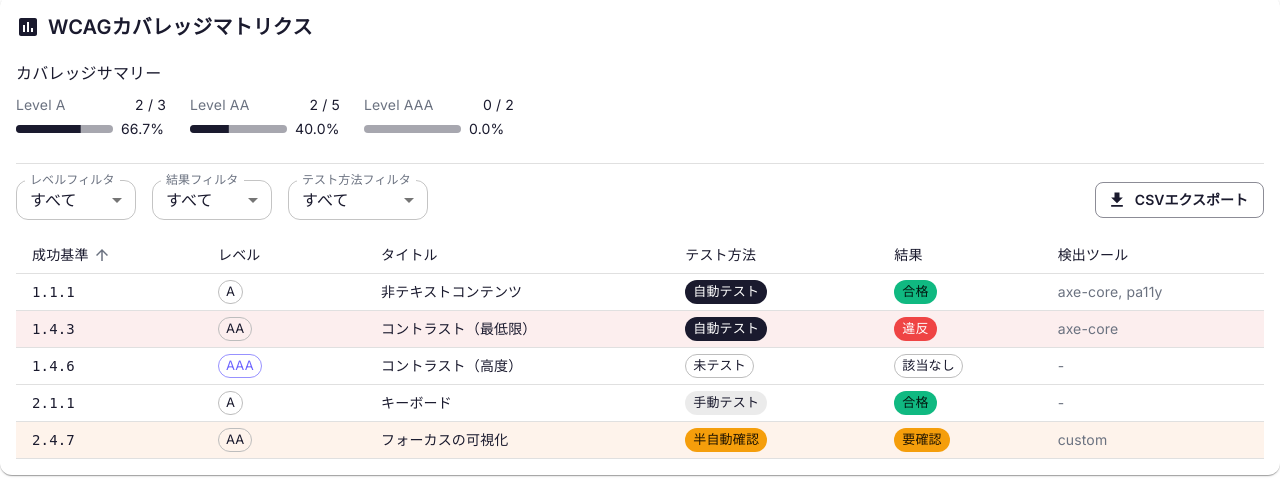
it: WCAGCoverageMatrix › フィルタリング › テスト方法でフィルタリングできる
The width and height of the screenshot is (1280, 494).
Note: 未テストのみ表示
Step 1. Click the dropdown named "テスト方法フィルタ" → point(325, 200), box [302,190,349,210]
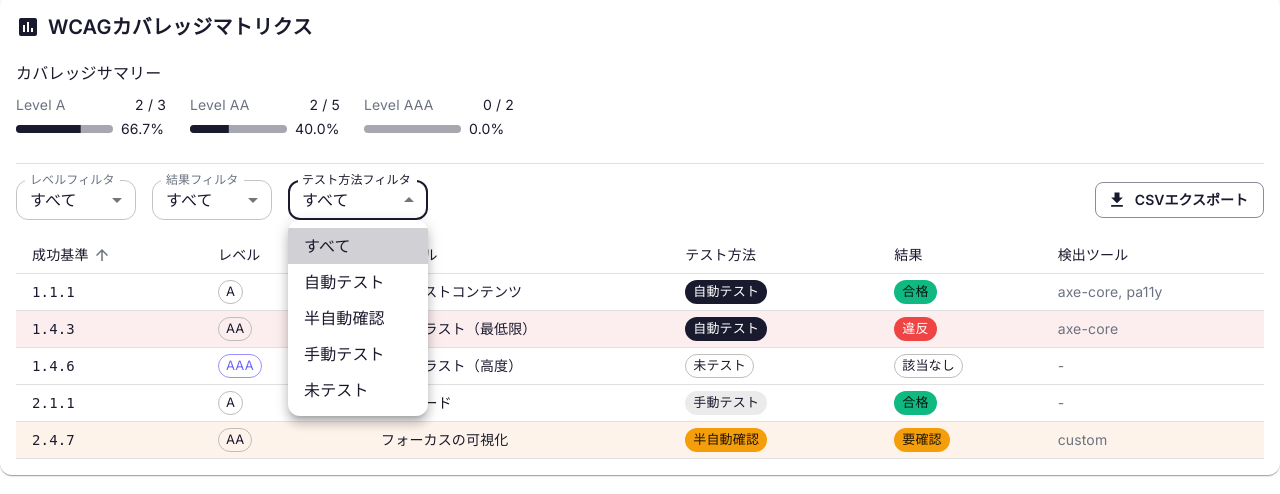
Step 2. Click the option "未テスト" → point(336, 390), box [304,380,369,400]
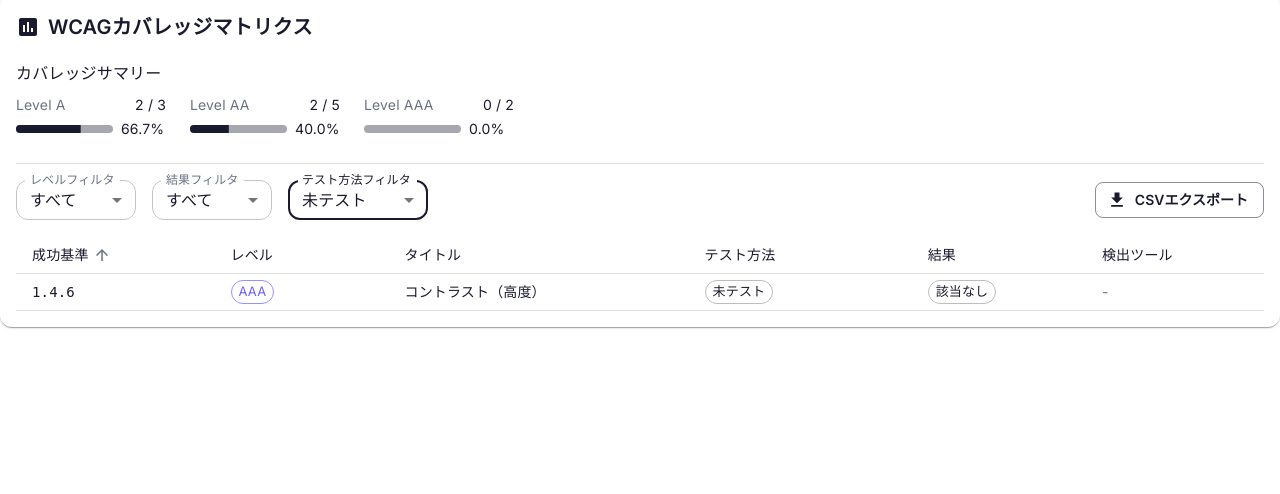
Expected: the text "1.4.6" is shown, [32,284,75,300]
Expected: the text "1.1.1" is gone
